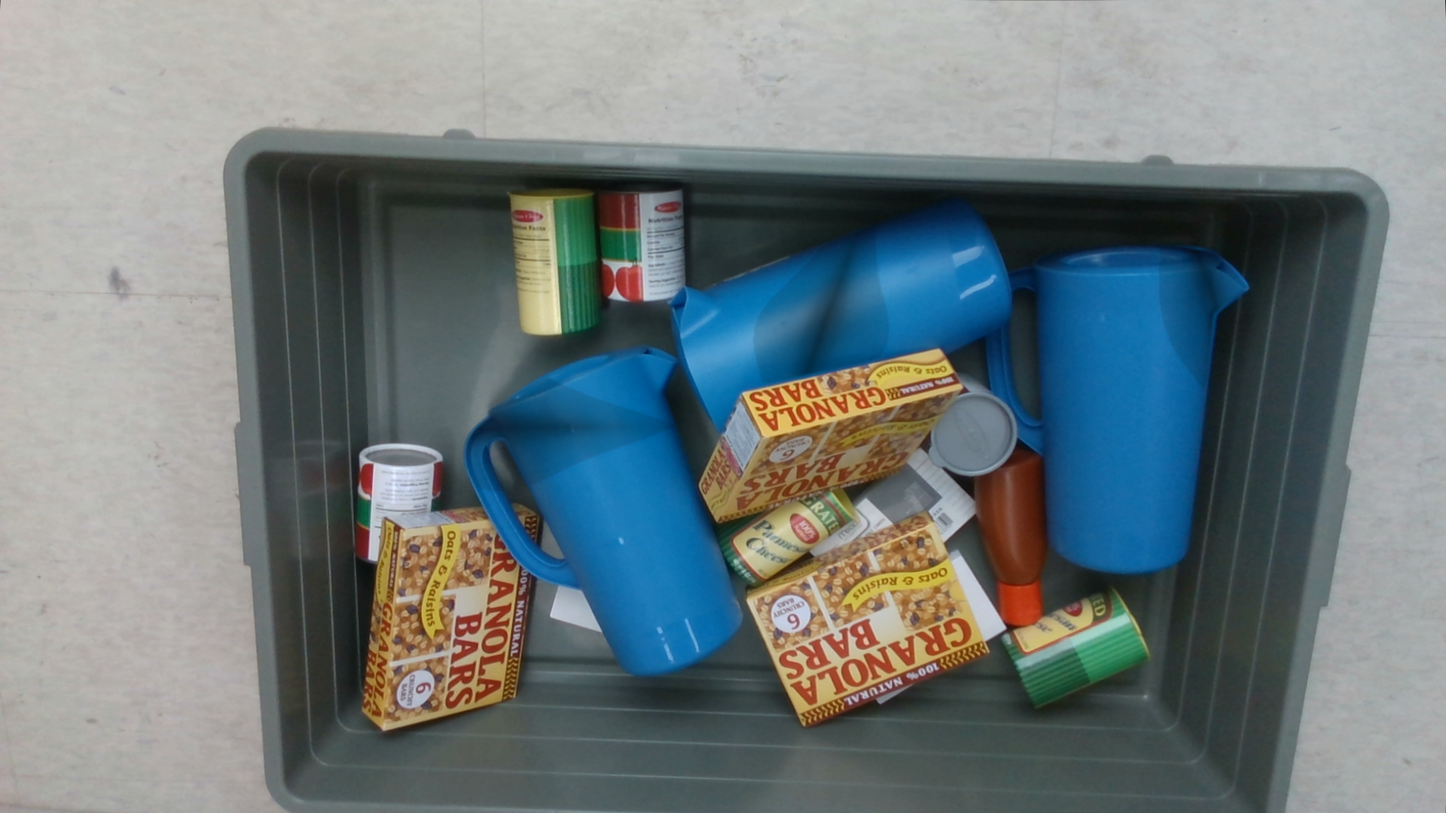defect: (464, 378, 673, 492), (753, 226, 889, 383), (1159, 245, 1246, 389)
